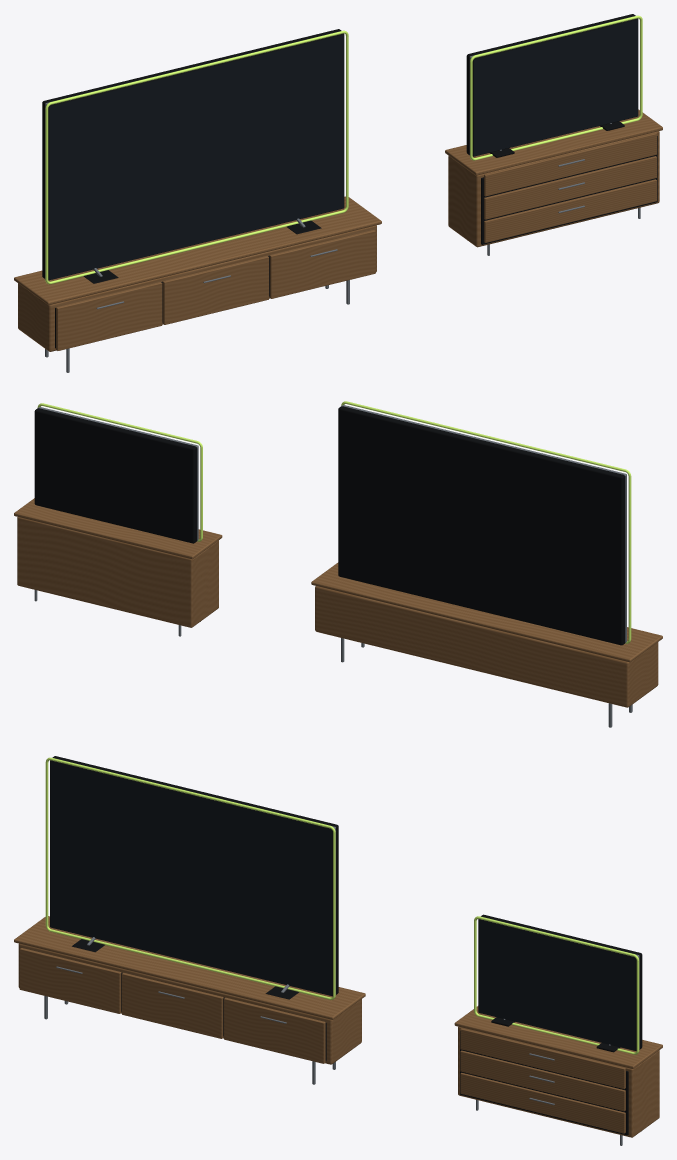
The model's file is room-destinations.glb.
3 renders of one model, top to bottom at view 1: azimuth 30°, elevation 25°; view 2: azimuth 150°, elevation 25°; view 3: azimuth 330°, elevation 25°, orthographic. The views are drawn at different scales.
Parts seen in each view (by area): view 1: LivingScreen, BedroomScreen, LivingOakTop, LivingOakFront2, LivingOakFront0, LivingOakFront1, BedroomDrawer1, BedroomDrawer0, BedroomDrawer2, BedroomDresserTop, SelectionLivingRim, LivingOakCabinet (+7 smaller); view 2: LivingTVRear, BedroomTVRear, LivingOakCabinet, BedroomDresserBody, LivingOakTop, BedroomDresserTop, SelectionLivingRim, LivingTVEdge, SelectionBedroomRim, BedroomTVEdge; view 3: LivingScreen, BedroomScreen, LivingOakTop, LivingOakFront0, LivingOakFront2, LivingOakFront1, BedroomDrawer2, BedroomDrawer0, BedroomDrawer1, BedroomDresserTop, SelectionLivingRim, LivingOakCabinet (+7 smaller).
Boxes of the visible parts, x1,y1,x2,y2 form: LivingScreen: (49,35,343,279); BedroomScreen: (474,19,638,156); LivingOakTop: (14,196,381,305); LivingOakFront2: (269,229,375,298); LivingOakFront0: (56,282,162,350); LivingOakFront1: (162,256,268,324); BedroomDrawer1: (484,156,656,219); BedroomDrawer0: (484,179,656,242); BedroomDrawer2: (484,133,656,196); BedroomDresserTop: (445,109,662,175); SelectionLivingRim: (45,30,348,284); LivingOakCabinet: (18,225,376,351); LivingTVRear: (338,406,625,645); BedroomTVRear: (34,408,197,543); LivingOakCabinet: (315,586,658,707); BedroomDresserBody: (17,517,218,627); LivingOakTop: (311,562,662,662); BedroomDresserTop: (14,498,222,559); SelectionLivingRim: (341,401,631,643); LivingTVEdge: (341,405,626,642); SelectionBedroomRim: (37,403,202,541); BedroomTVEdge: (38,407,198,540); LivingScreen: (50,761,331,995); BedroomScreen: (478,920,635,1050); LivingOakTop: (14,916,365,1019); LivingOakFront0: (19,948,121,1013); LivingOakFront2: (224,997,325,1063); LivingOakFront1: (122,972,223,1038); BedroomDrawer2: (460,1028,625,1089); BedroomDrawer0: (460,1072,625,1133); BedroomDrawer1: (460,1050,625,1111); BedroomDresserTop: (454,1006,662,1068); SelectionLivingRim: (45,757,335,999); LivingOakCabinet: (18,943,361,1064).
Bounding box in the file's own units: 6.54 × 2.61 × 0.9005.
Materials: 5 (1 with a texture image).
